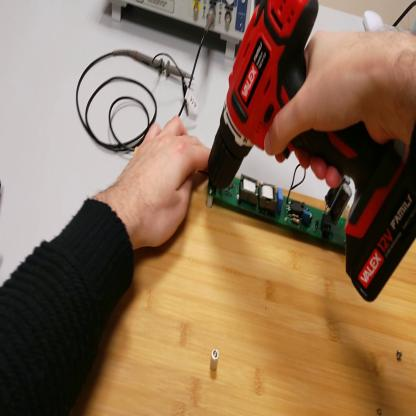electric screwdriver: (207, 2, 416, 306)
hand: (266, 24, 405, 174), (117, 119, 212, 252)
high voltage board: (199, 161, 367, 251)
oscilloscope: (111, 2, 255, 58)
oscilloscope probe tip: (125, 48, 195, 83)
working area: (70, 162, 416, 415)
